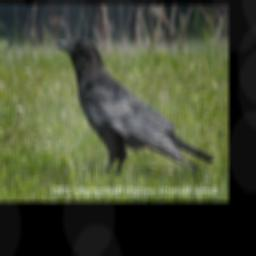Crow: (53, 38, 214, 179)
